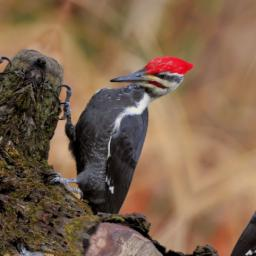Woodpecker: (15, 15, 195, 226)
